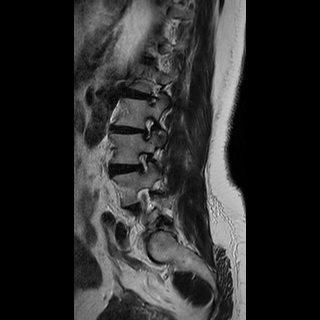LFS0: (131, 144, 157, 177), (134, 110, 160, 143)
